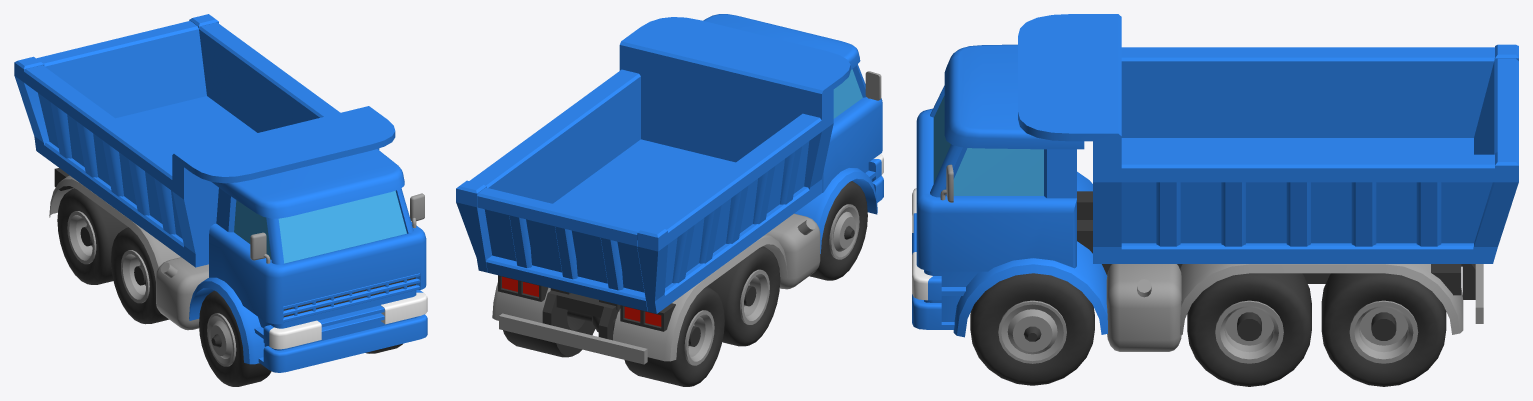
Rendered from Cake_ThemeToys_L.FBX.
3 renders of one model, left to right at view 1: azimuth 30°, elevation 25°; view 2: azimuth 150°, elevation 25°; view 3: azimuth 270°, elevation 25°, orthographic. The views are drawn at different scales.
Visible parts, largest first — view 1: Cake_ThemeToys_L; view 2: Cake_ThemeToys_L; view 3: Cake_ThemeToys_L.
Boxes of the visible parts, left/top/right/bottom form: Cake_ThemeToys_L: left=14, top=14, right=427, bottom=386; Cake_ThemeToys_L: left=456, top=14, right=883, bottom=386; Cake_ThemeToys_L: left=912, top=14, right=1518, bottom=386.
Bounding box in the file's own units: 35762 × 36104 × 75350.
